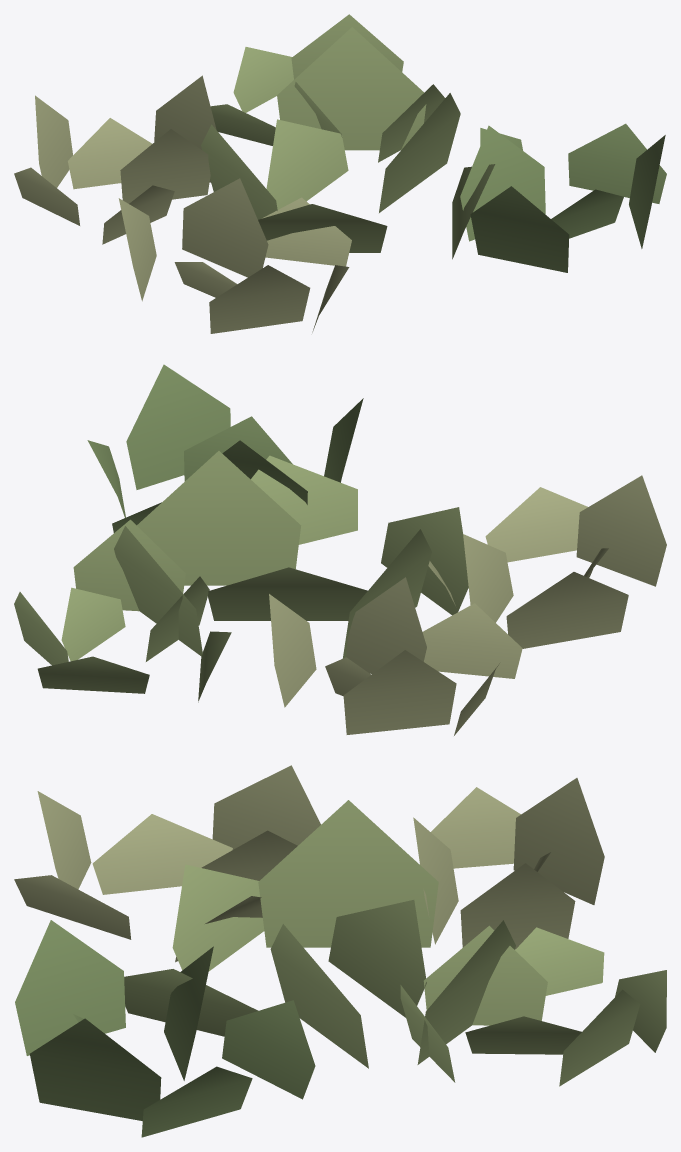
File: veg_alpine_grass.glb
3 views of the same model, one above another, from view 1: azimuth 30°, elevation 25°; view 2: azimuth 150°, elevation 25°; view 3: azimuth 270°, elevation 25° (orthographic). The views are drawn at different scales.
Visible parts, largest first — view 1: clump_0, clump_2, clump_1, clump_4, clump_3; view 2: clump_0, clump_4, clump_1, clump_3, clump_2; view 3: clump_0, clump_2, clump_1, clump_4, clump_3.
Part boxes in pixels (x1=…): clump_0: x1=201, y1=27, x2=495, y2=259; clump_2: x1=460, y1=123, x2=666, y2=272; clump_1: x1=118, y1=178, x2=351, y2=333; clump_4: x1=14, y1=75, x2=216, y2=244; clump_3: x1=210, y1=14, x2=445, y2=162; clump_0: x1=114, y1=451, x2=468, y2=658; clump_4: x1=269, y1=577, x2=522, y2=735; clump_1: x1=428, y1=475, x2=666, y2=648; clump_3: x1=14, y1=519, x2=231, y2=702; clump_2: x1=87, y1=364, x2=363, y2=532; clump_0: x1=124, y1=800, x2=515, y2=1068; clump_2: x1=15, y1=920, x2=315, y2=1137; clump_1: x1=14, y1=765, x2=320, y2=962; clump_4: x1=413, y1=778, x2=604, y2=949; clump_3: x1=400, y1=925, x2=666, y2=1086.
Bounding box in the file's own units: 0.5368 × 0.1069 × 0.5014.
